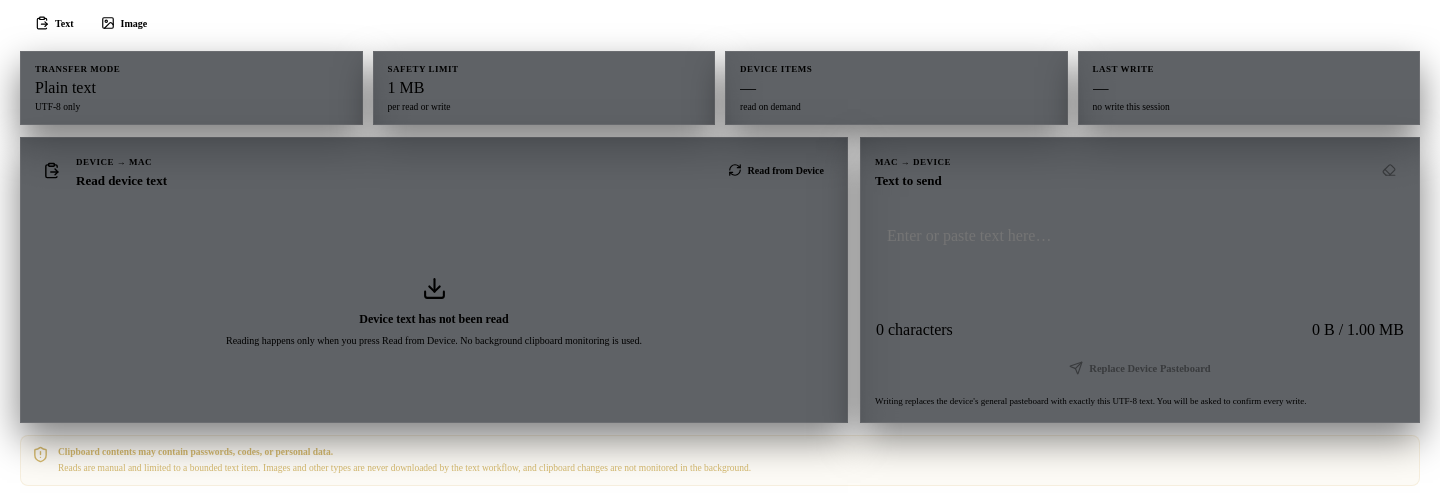
Pasteboard transfer › does not inspect the device until the user explicitly requests a read
Expected: the text "Device text has not been read" is shown, [359,312,509,327]
Click the button "Read from Device": point(776, 170) [718,156,833,184]
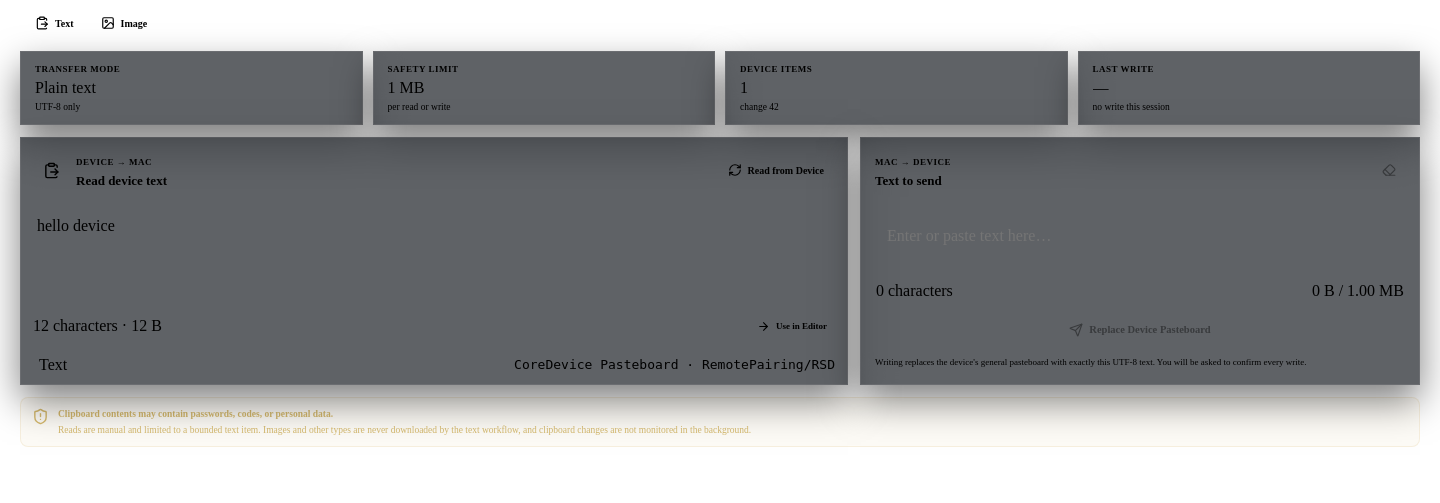
Now the text "CoreDevice Pasteboard · RemotePairing/RSD" is shown, box [514,357,835,372]
